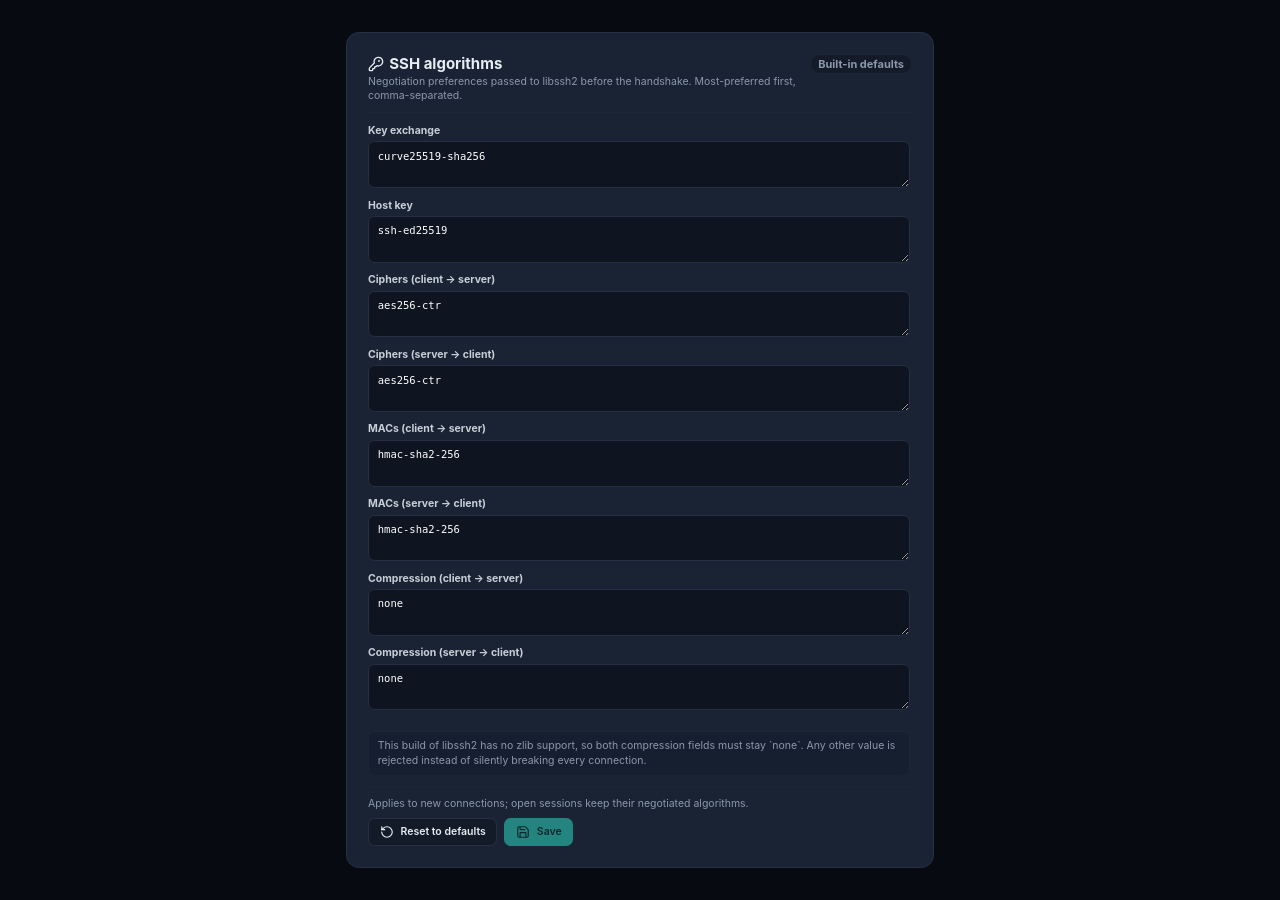
Scenario: AlgoPrefsDialog › persists the edited preferences through the backend command
Check: the text "Built-in defaults" is shown, box [810,54,912,74]
Replace the text in the text box labelled "Host key" with "ssh-ed25519,rsa-sha2-512" at (639, 239), box [368,216,910,263]
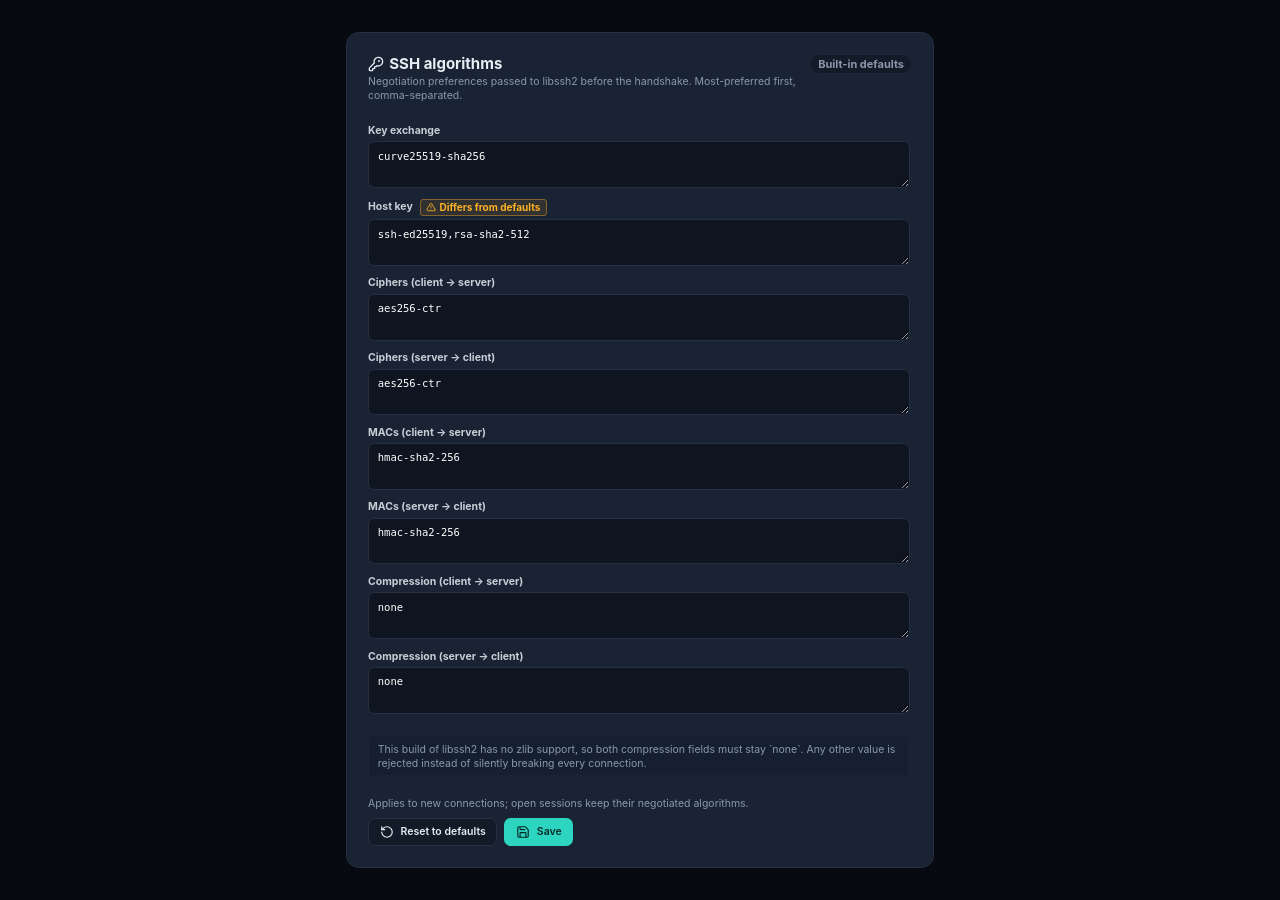
Click the button "Save".
click(539, 832)  # box [504,818,573,846]
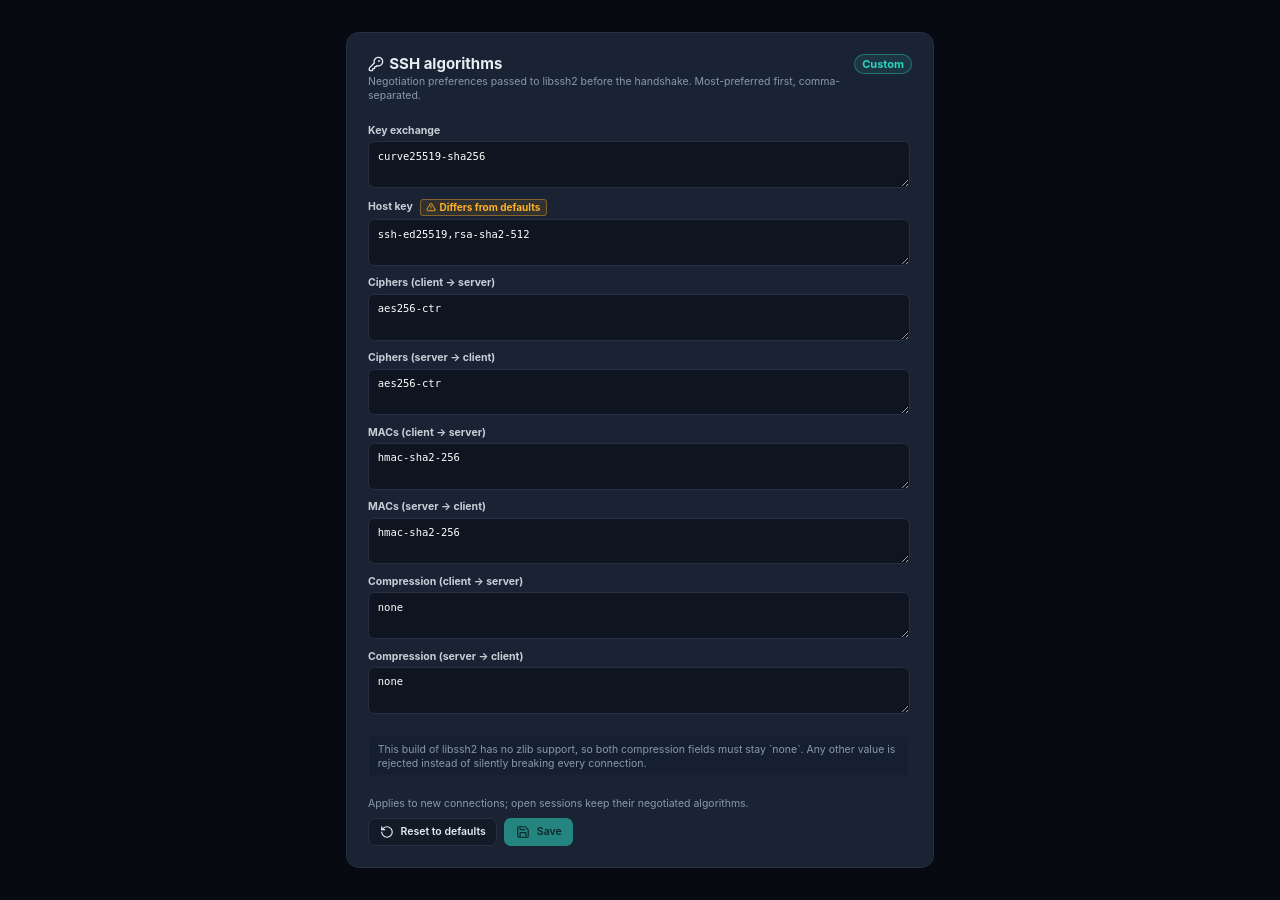
Check: the text "Differs from defaults" is shown once, box [420,198,547,216]
Check: the text "Custom" is shown, box [854,54,912,74]
